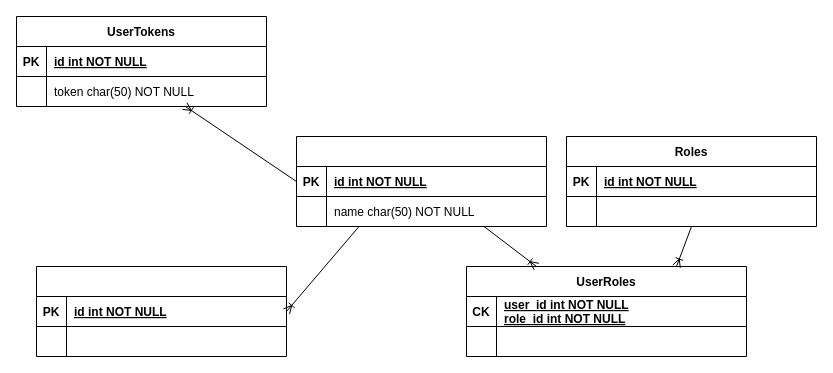
Image size: 833x373. Some labels were removed from this diagram. The box of each missing label's shape, as (x1, y1, x2, y2) in pixels:
UserLogins: (36, 266, 286, 356)
Users: (296, 136, 546, 226)
